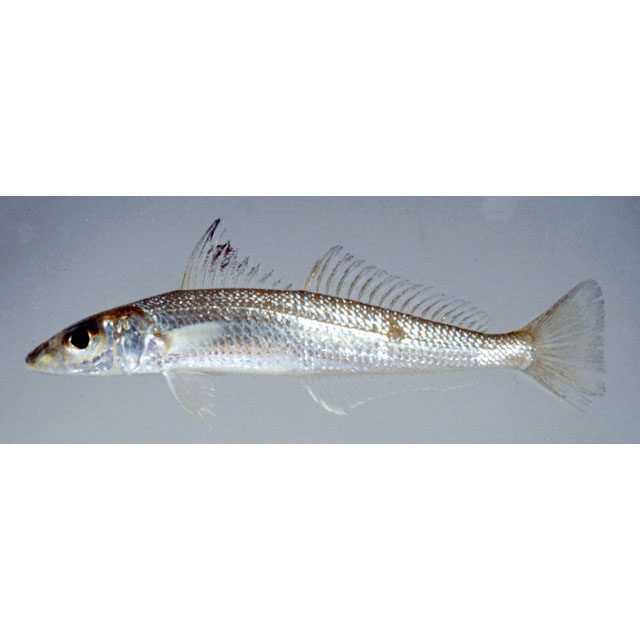kiss: (21, 222, 620, 418)
